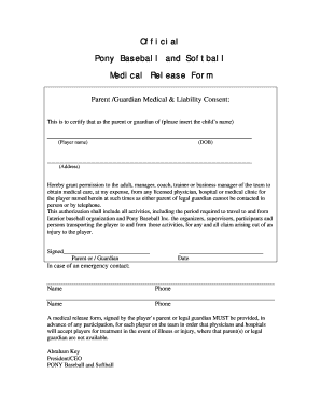textline: (42, 292, 280, 304), (41, 277, 279, 288), (46, 131, 255, 141), (45, 156, 254, 166), (176, 248, 267, 256), (65, 249, 152, 255)
